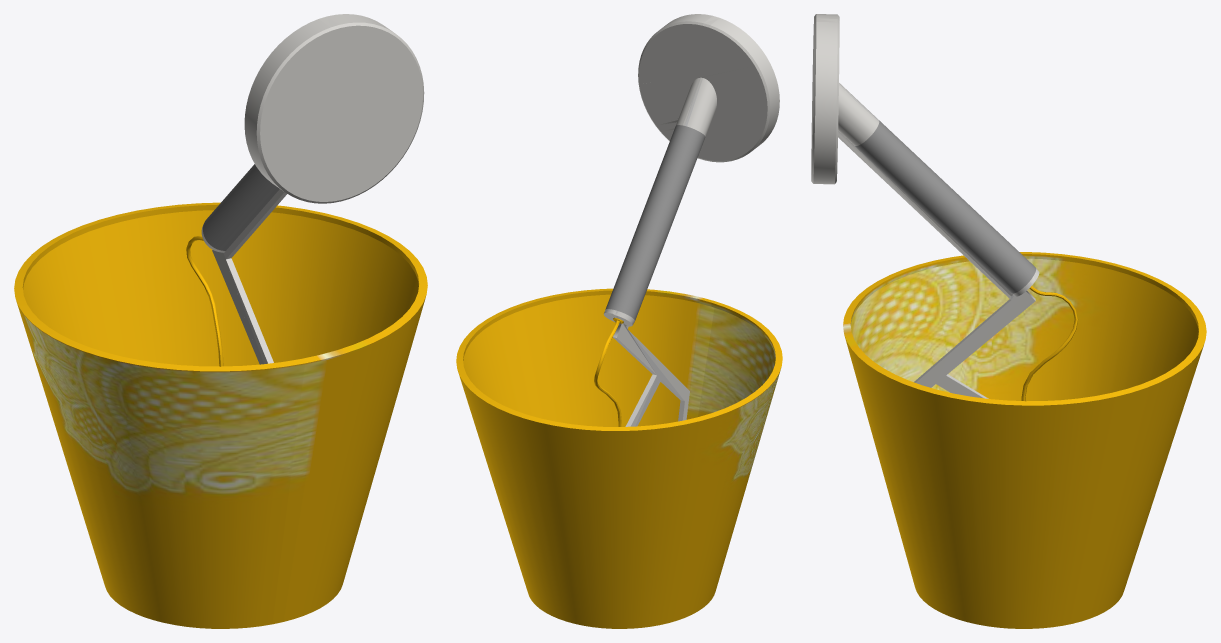
Rendered from Lampara-pared.fbx.
The picture shows the model from 3 angles, left to right: view 1: azimuth 30°, elevation 25°; view 2: azimuth 150°, elevation 25°; view 3: azimuth 270°, elevation 25°; orthographic projection. The views are drawn at different scales.
Visible parts, largest first — view 1: Object_9, Object_11, Object_4; view 2: Object_9, Object_11, Object_4, Object_8, Object_10; view 3: Object_9, Object_11, Object_4.
Part boxes in pixels (x1,y1,x2,y2): Object_9: (14, 202, 427, 628); Object_11: (201, 14, 424, 364); Object_4: (203, 164, 279, 250); Object_9: (456, 288, 782, 628); Object_11: (603, 14, 779, 426); Object_4: (605, 125, 705, 320); Object_8: (616, 73, 765, 328); Object_10: (615, 71, 729, 426); Object_9: (843, 252, 1206, 628); Object_11: (811, 14, 1039, 398); Object_4: (855, 120, 1036, 293).
Size of the model in its own units: 0.2197 by 0.3768 by 0.2388.
